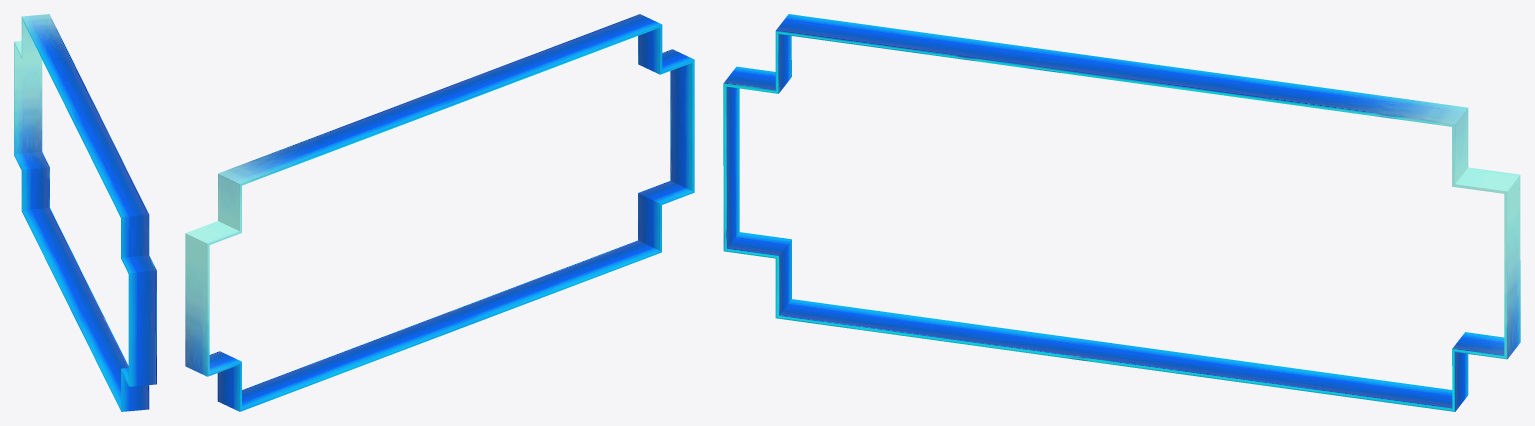
Rendered from puzzleboard_outer_frame.glb.
3 views of the same model, side by side, from view 1: azimuth 30°, elevation 25°; view 2: azimuth 150°, elevation 25°; view 3: azimuth 270°, elevation 25° (orthographic). The views are drawn at different scales.
Visible parts, largest first — view 1: puzzleboard_outer_frameShape; view 2: puzzleboard_outer_frameShape; view 3: puzzleboard_outer_frameShape.
Part boxes in pixels (box(x1,y1,x2,y2)): puzzleboard_outer_frameShape: box(14, 14, 156, 411); puzzleboard_outer_frameShape: box(185, 14, 694, 411); puzzleboard_outer_frameShape: box(723, 14, 1520, 411).
Bounding box in the file's own units: 264 × 282 × 709.
Materials: 1 (1 with a texture image).
